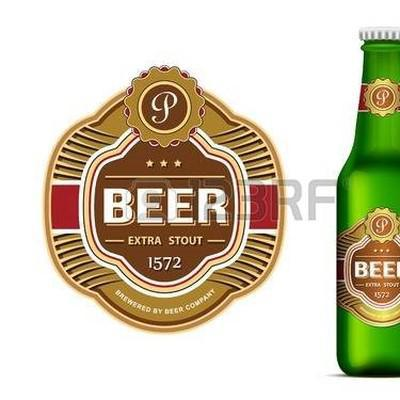beer: (335, 24, 400, 377)
